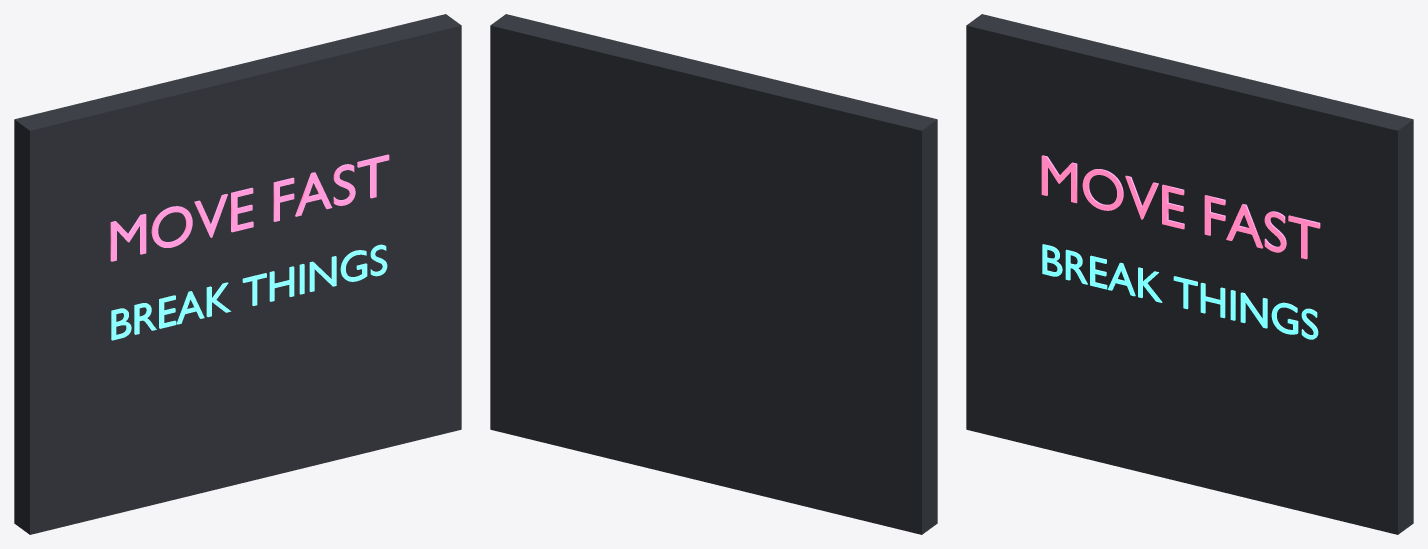
The model's file is neon_sign.glb.
3 views of the same model, side by side, from view 1: azimuth 30°, elevation 25°; view 2: azimuth 150°, elevation 25°; view 3: azimuth 330°, elevation 25° (orthographic).
Parts seen in each view (by area): view 1: neon_sign_mesh; view 2: neon_sign_mesh; view 3: neon_sign_mesh.
Part boxes in pixels (box(x1,y1,x2,y2)): neon_sign_mesh: box(14, 14, 461, 534); neon_sign_mesh: box(490, 14, 937, 534); neon_sign_mesh: box(966, 14, 1413, 534).
Bounding box in the file's own units: 1.9 × 1.7 × 0.144.
